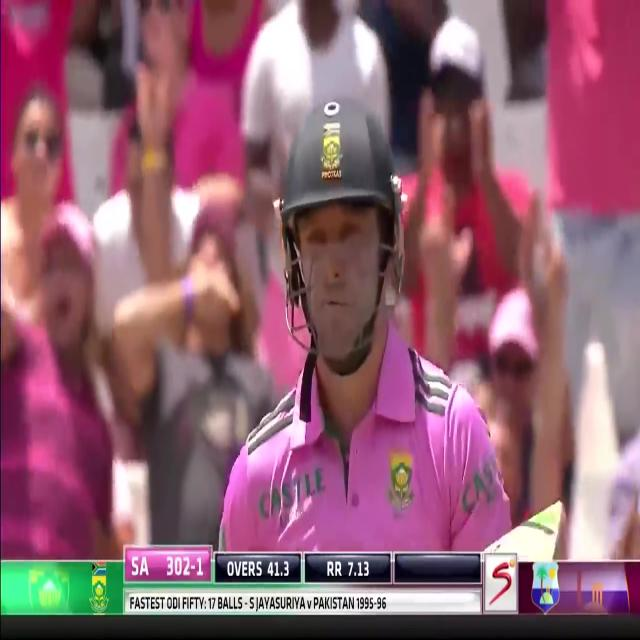Ball: (212, 94, 516, 556)
